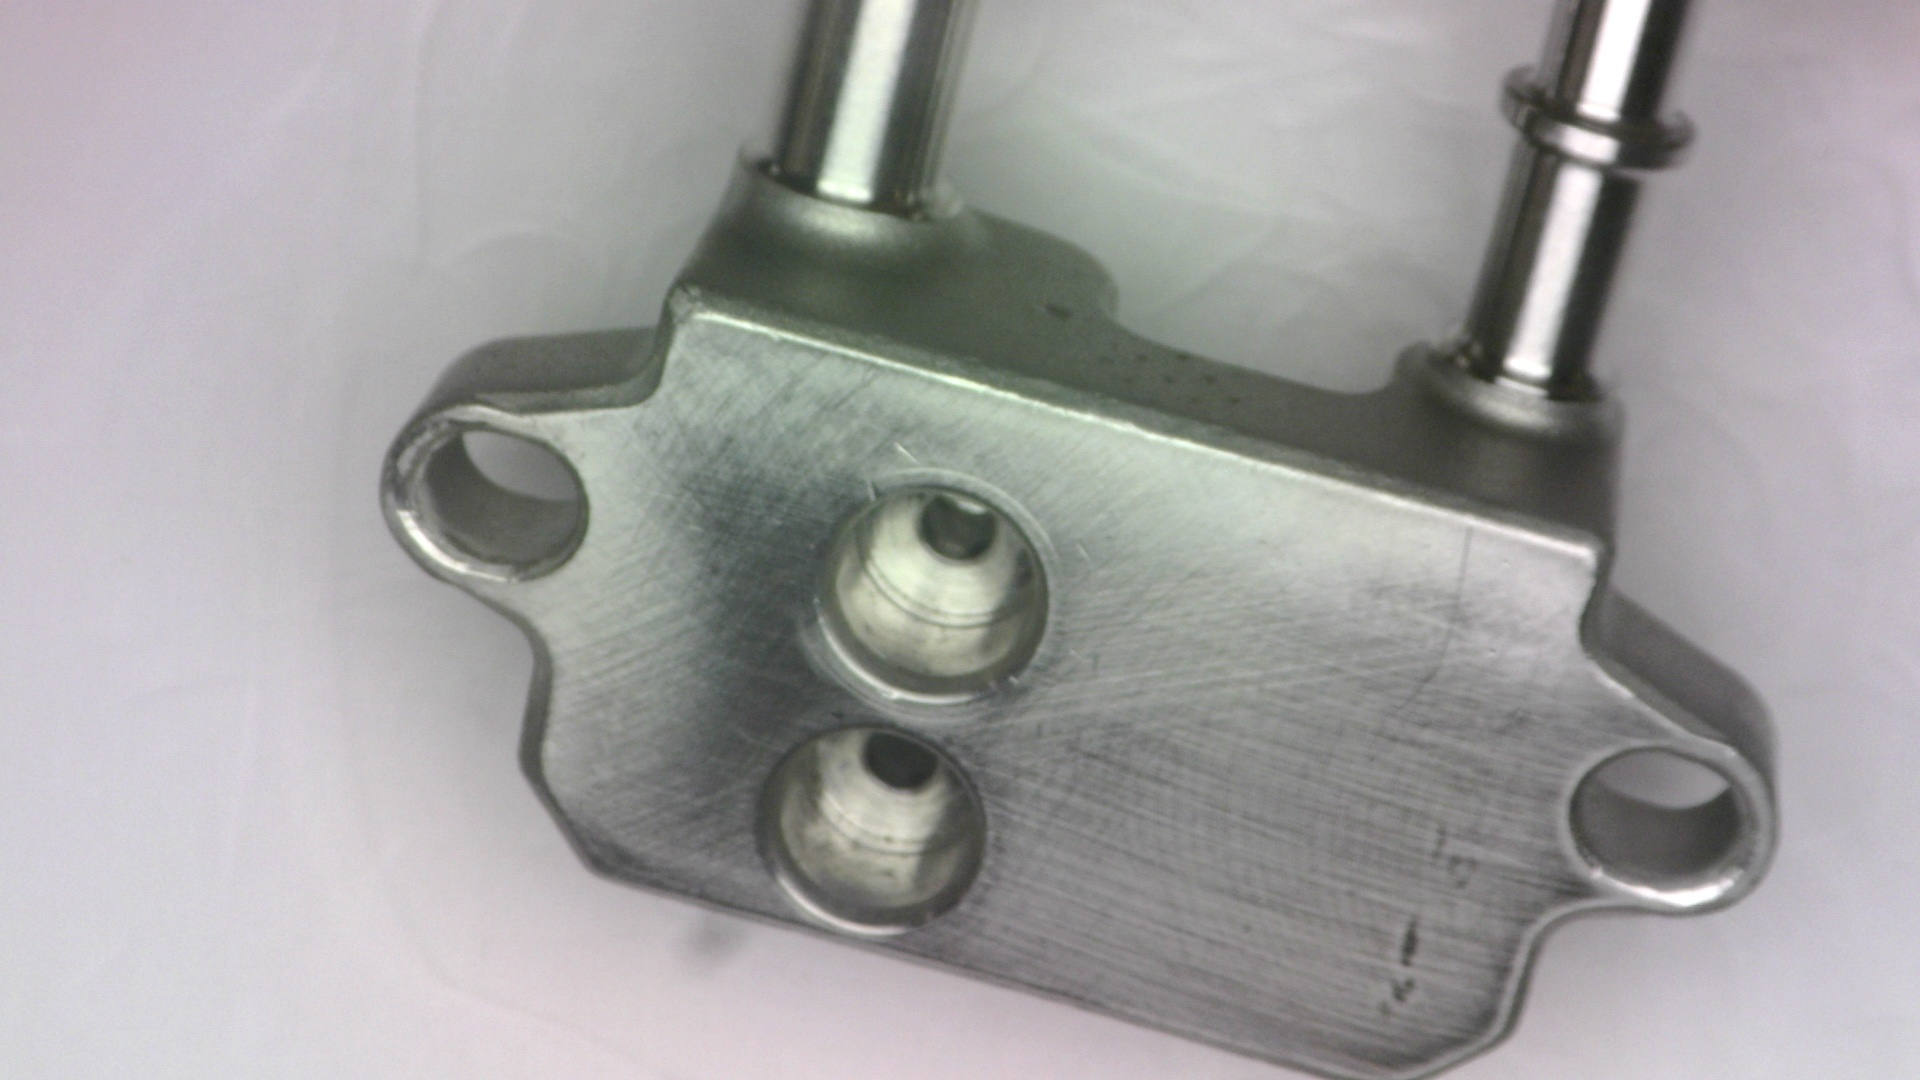chamfer_presence: (749, 891, 1092, 1080)
